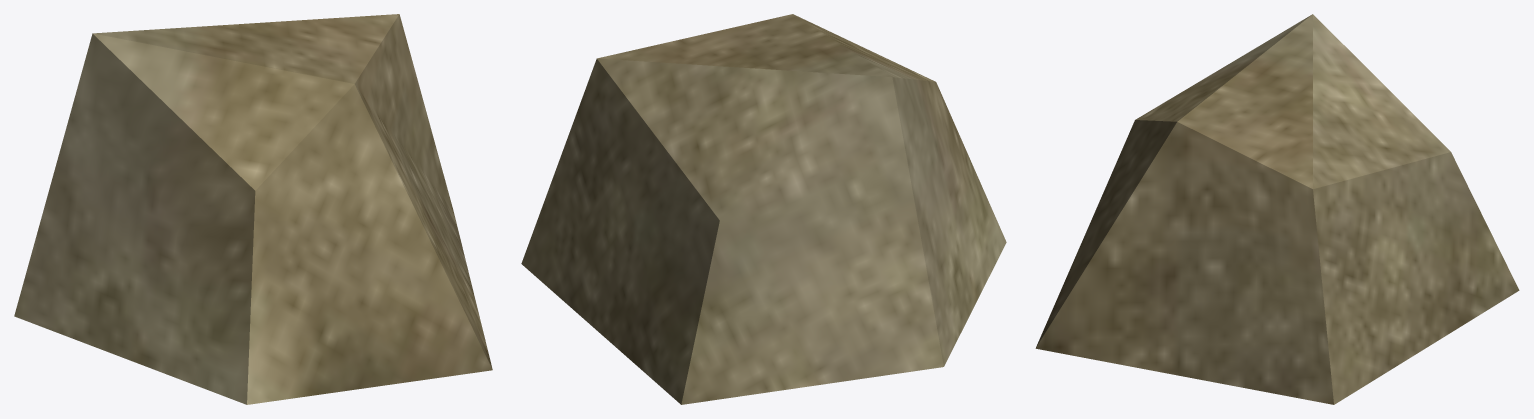
File: ROCHE-S.glb
The picture shows the model from 3 angles, left to right: view 1: azimuth 30°, elevation 25°; view 2: azimuth 150°, elevation 25°; view 3: azimuth 270°, elevation 25°; orthographic projection. The views are drawn at different scales.
Parts seen in each view (by area): view 1: Cylinder.002; view 2: Cylinder.002; view 3: Cylinder.002.
Boxes of the visible parts, <box> form: Cylinder.002: <box>14,14,492,404</box>; Cylinder.002: <box>521,14,1006,404</box>; Cylinder.002: <box>1035,14,1519,404</box>.
Size of the model in its own units: 1.22 by 0.7309 by 1.36.
1 material, 1 textured.
